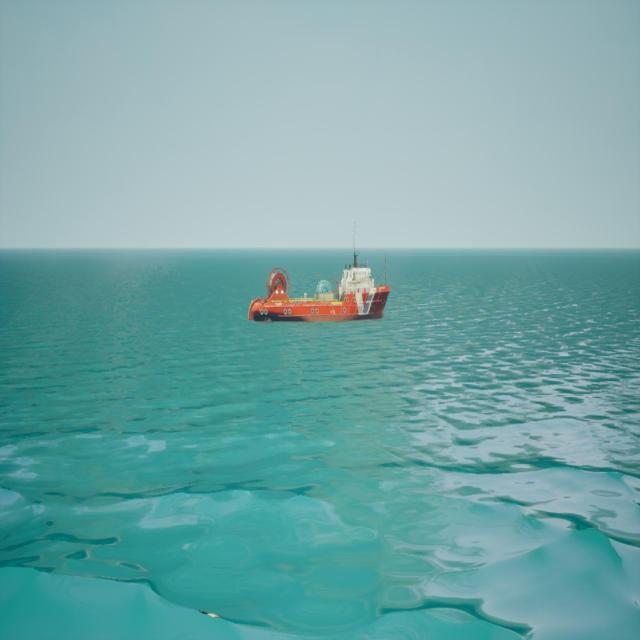tug boat: (246, 268, 395, 324)
